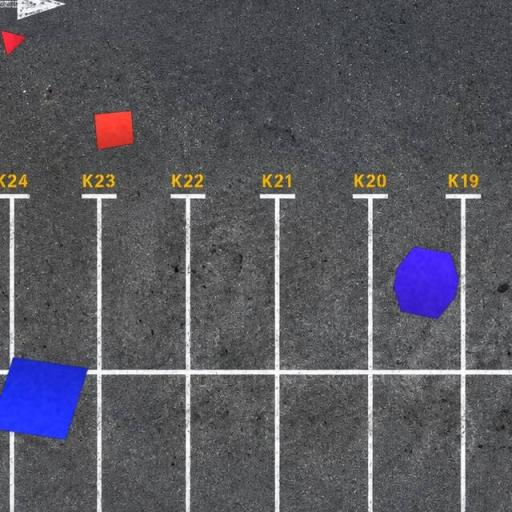BLUE_SQUARE: (0, 356, 90, 440)
RED_SQUARE: (94, 110, 135, 150)
